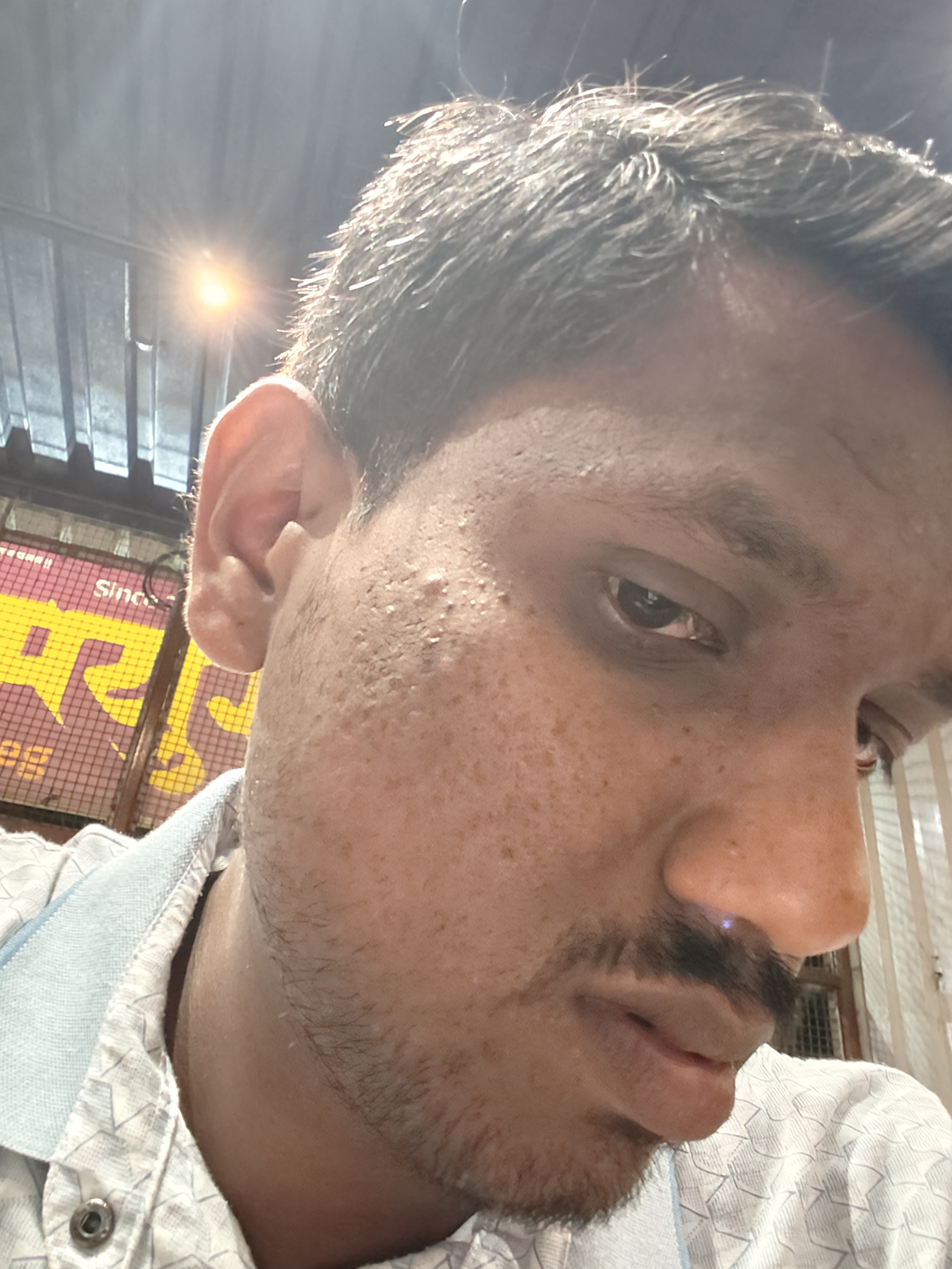closed_comedone: (573, 458, 612, 493), (721, 359, 756, 387), (375, 600, 408, 620)
